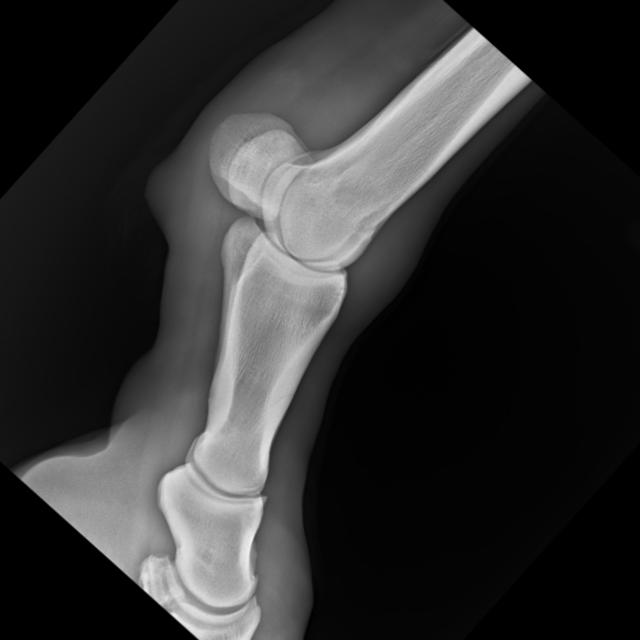joint-ht8A: (97, 23, 482, 405)
